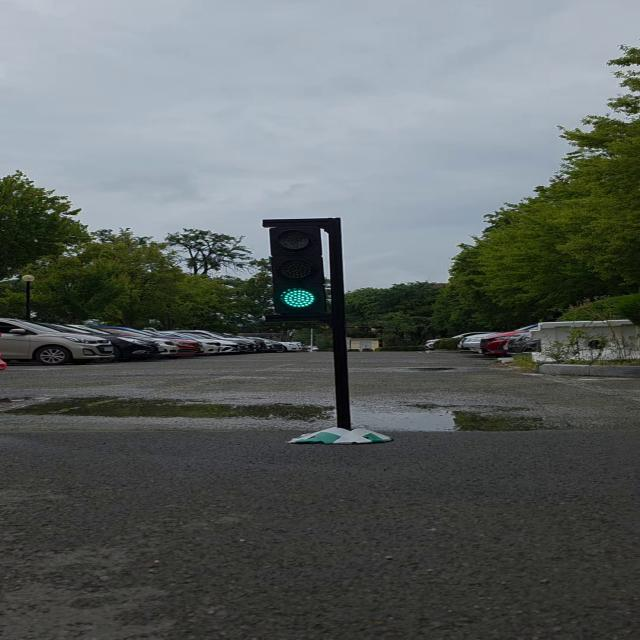green: (268, 220, 341, 320)
